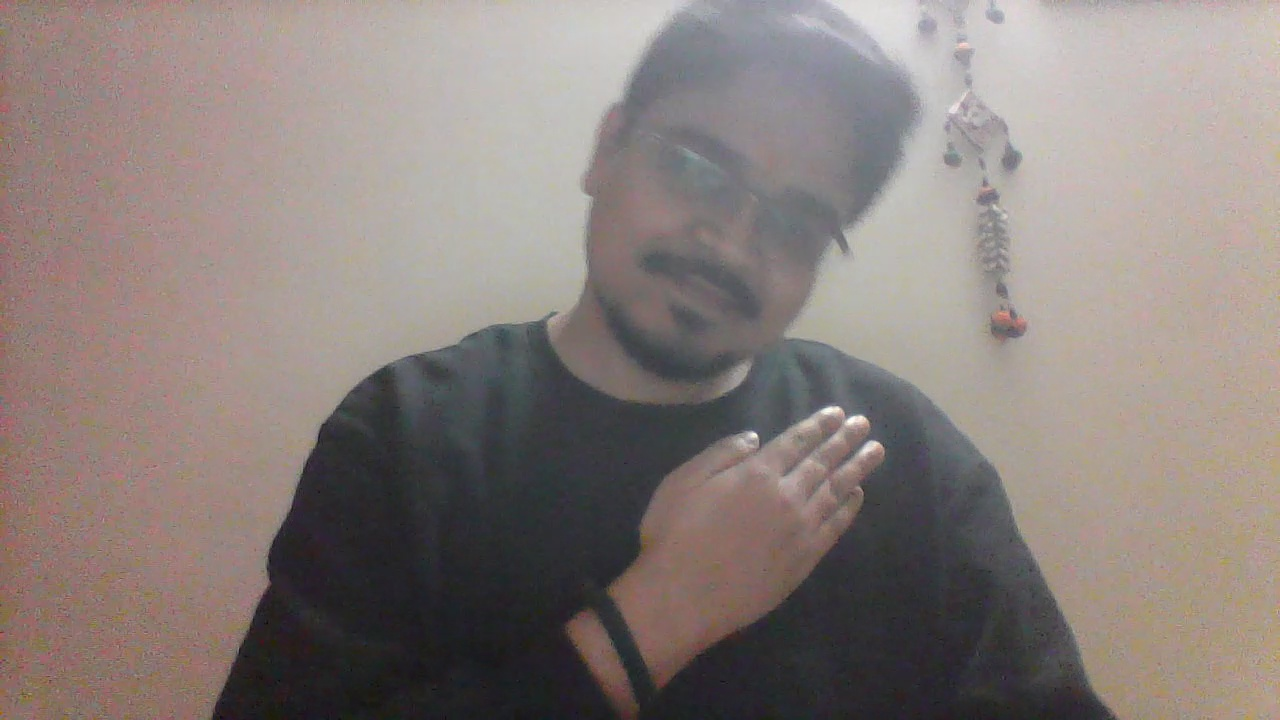Please: (625, 400, 893, 645)
